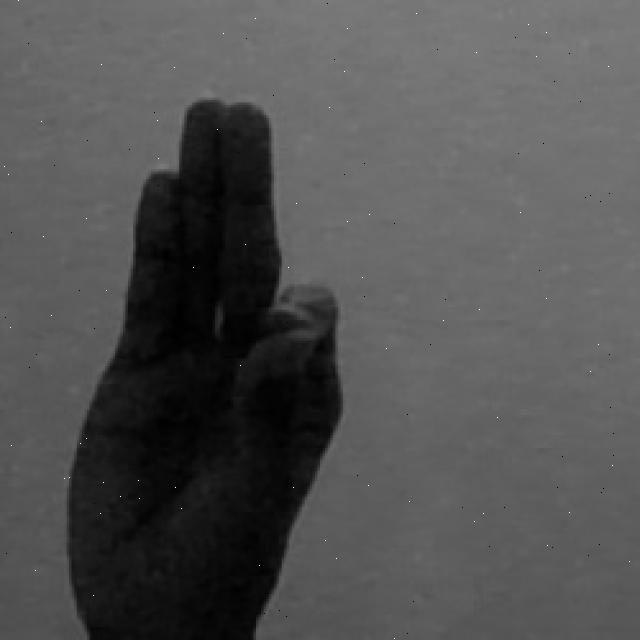F: (65, 100, 347, 640)
